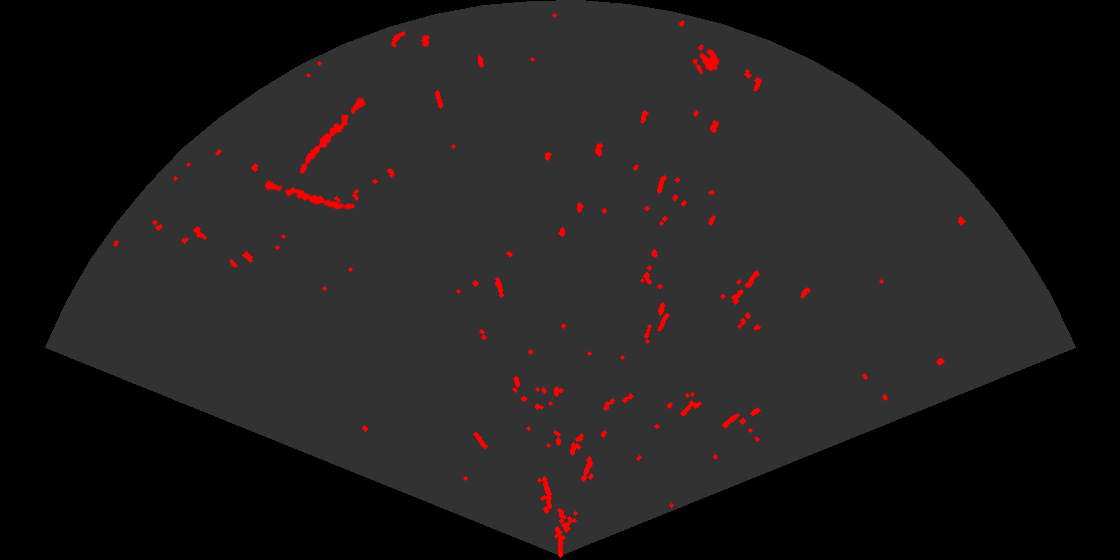ball: (691, 47, 721, 76)
chain: (298, 96, 367, 175), (262, 178, 357, 212)
